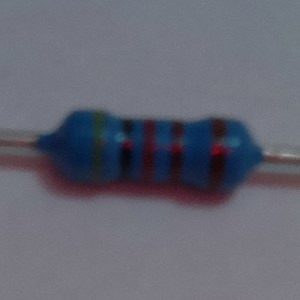black_band: (119, 116, 135, 182)
brown_band: (203, 116, 230, 191), (168, 120, 185, 187)
red_band: (141, 117, 158, 184)
yellow_band: (91, 109, 107, 187)
